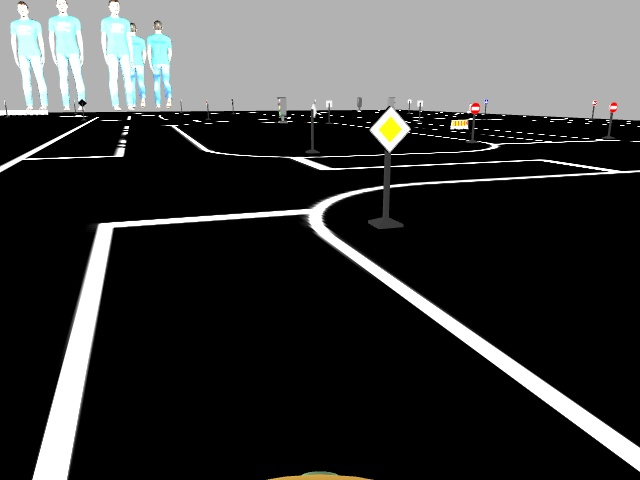Priority: (368, 105, 409, 155)
